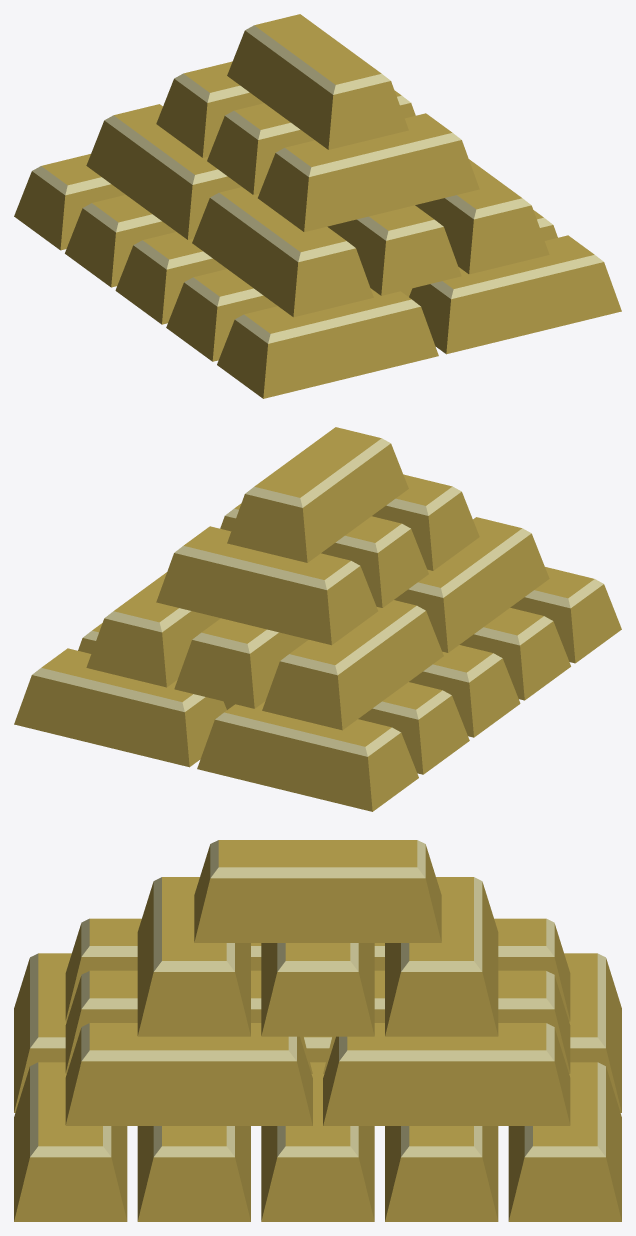
File: ingot-stack-73e1e8.glb
3 views of the same model, one above another, from view 1: azimuth 30°, elevation 25°; view 2: azimuth 150°, elevation 25°; view 3: azimuth 270°, elevation 25° (orthographic). The views are drawn at different scales.
Visible parts, largest first — view 1: ingot-stack-metal; view 2: ingot-stack-metal; view 3: ingot-stack-metal.
Boxes of the visible parts, left/top/right/bottom form: ingot-stack-metal: left=14, top=14, right=621, bottom=398; ingot-stack-metal: left=14, top=427, right=621, bottom=811; ingot-stack-metal: left=14, top=840, right=621, bottom=1221.
Size of the model in its own units: 0.49 by 0.28 by 0.59.
